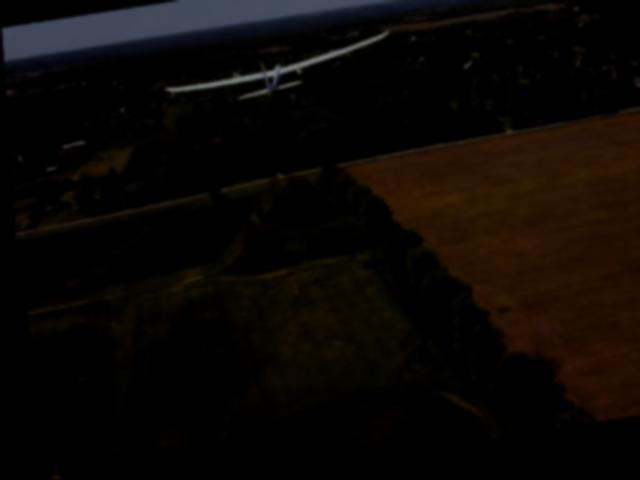uav: (150, 22, 407, 123)
